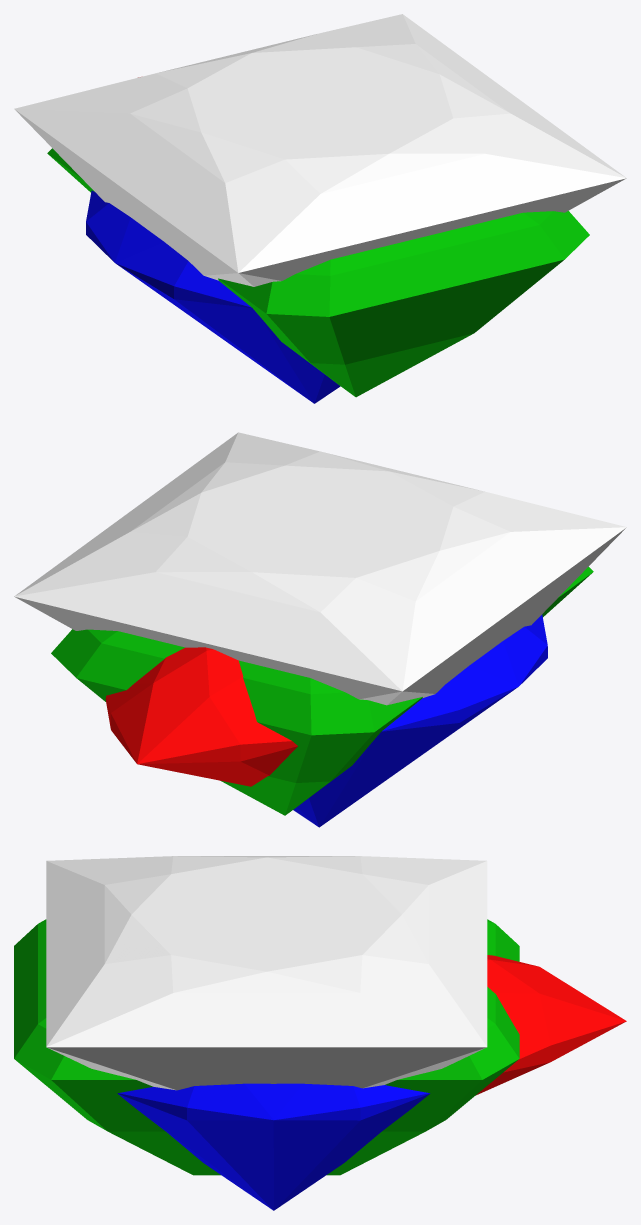
File: gems.fbx
The picture shows the model from 3 angles, top to bottom: view 1: azimuth 30°, elevation 25°; view 2: azimuth 150°, elevation 25°; view 3: azimuth 270°, elevation 25°; orthographic projection.
Visible parts, largest first — view 1: PrincessCut, EmeraldCut, RoundCut; view 2: PrincessCut, EmeraldCut, TeardropCut, RoundCut; view 3: PrincessCut, RoundCut, EmeraldCut, TeardropCut.
Part boxes in pixels (bbox=[...]): PrincessCut: bbox=[14, 14, 626, 286]; EmeraldCut: bbox=[47, 148, 589, 397]; RoundCut: bbox=[86, 190, 340, 403]; PrincessCut: bbox=[14, 432, 626, 705]; EmeraldCut: bbox=[51, 566, 593, 815]; TeardropCut: bbox=[105, 647, 297, 786]; RoundCut: bbox=[293, 614, 547, 827]; PrincessCut: bbox=[46, 856, 487, 1090]; RoundCut: bbox=[117, 1083, 430, 1210]; EmeraldCut: bbox=[14, 919, 519, 1175]; TeardropCut: bbox=[476, 955, 626, 1095].
Bounding box in the file's own units: 104 × 75.42 × 141.
